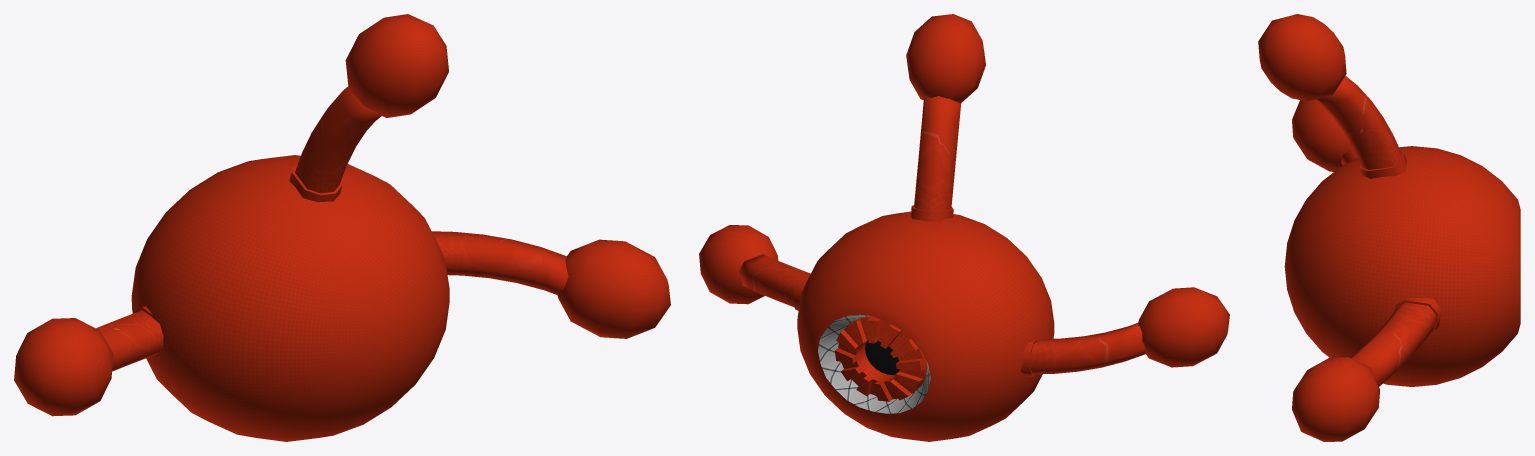
The model's file is enemy_Sphere (2).fbx.
The picture shows the model from 3 angles, left to right: view 1: azimuth 30°, elevation 25°; view 2: azimuth 150°, elevation 25°; view 3: azimuth 270°, elevation 25°; orthographic projection. The views are drawn at different scales.
Visible parts, largest first — view 1: Enemy_sphere, Antenna.001, Antenna, Antenna.002; view 2: Enemy_sphere, Antenna, Antenna.002, Antenna.001; view 3: Enemy_sphere, Antenna, Antenna.001, Antenna.002.
Boxes of the visible parts, bbox=[...] form: Enemy_sphere: bbox=[131, 155, 449, 441]; Antenna.001: bbox=[432, 231, 670, 338]; Antenna: bbox=[289, 14, 448, 202]; Antenna.002: bbox=[14, 306, 163, 416]; Enemy_sphere: bbox=[797, 211, 1054, 441]; Antenna: bbox=[906, 14, 985, 221]; Antenna.002: bbox=[1020, 287, 1229, 376]; Antenna.001: bbox=[699, 225, 810, 310]; Enemy_sphere: bbox=[1284, 146, 1520, 386]; Antenna: bbox=[1258, 14, 1407, 178]; Antenna.001: bbox=[1292, 297, 1441, 441]; Antenna.002: bbox=[1292, 99, 1357, 171].
Bounding box in the file's own units: 615 × 409 × 260.
4 materials, 4 textured.
